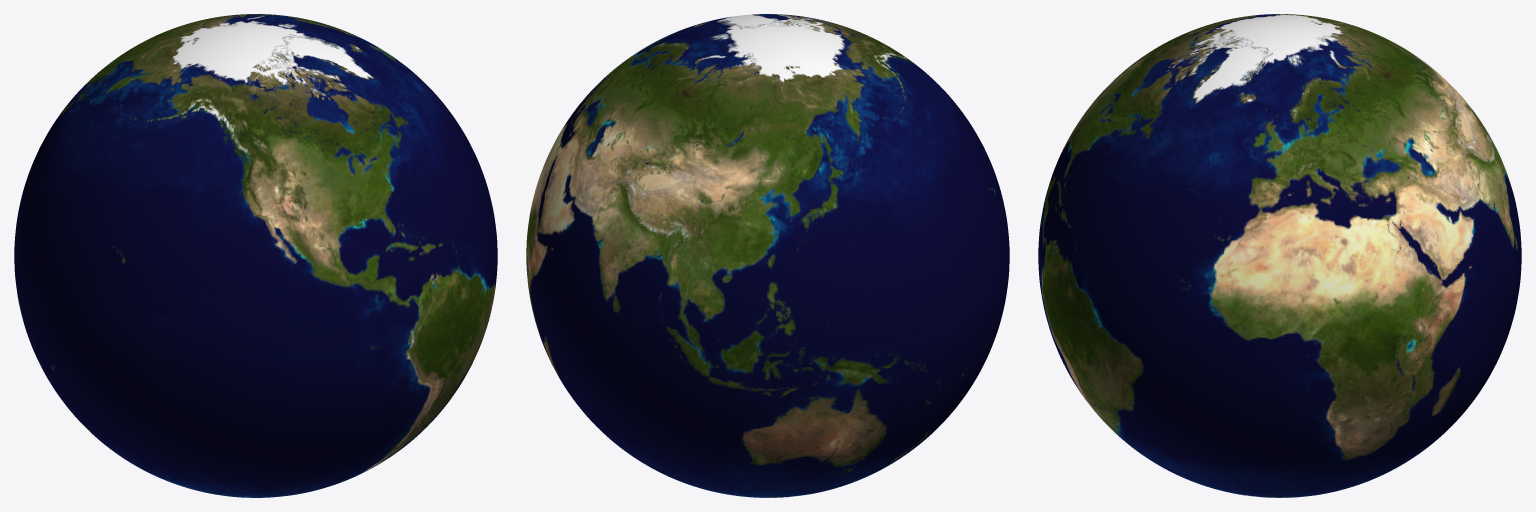
The model's file is earth (1).glb.
The picture shows the model from 3 angles, left to right: view 1: azimuth 30°, elevation 25°; view 2: azimuth 150°, elevation 25°; view 3: azimuth 270°, elevation 25°; orthographic projection.
Parts seen in each view (by area): view 1: Object_4; view 2: Object_4; view 3: Object_4.
Boxes of the visible parts, <box> form: Object_4: <box>14,14,497,497</box>; Object_4: <box>526,14,1009,497</box>; Object_4: <box>1038,14,1521,497</box>.
Size of the model in its own units: 2 by 2.01 by 2.
3 materials, 1 textured.
